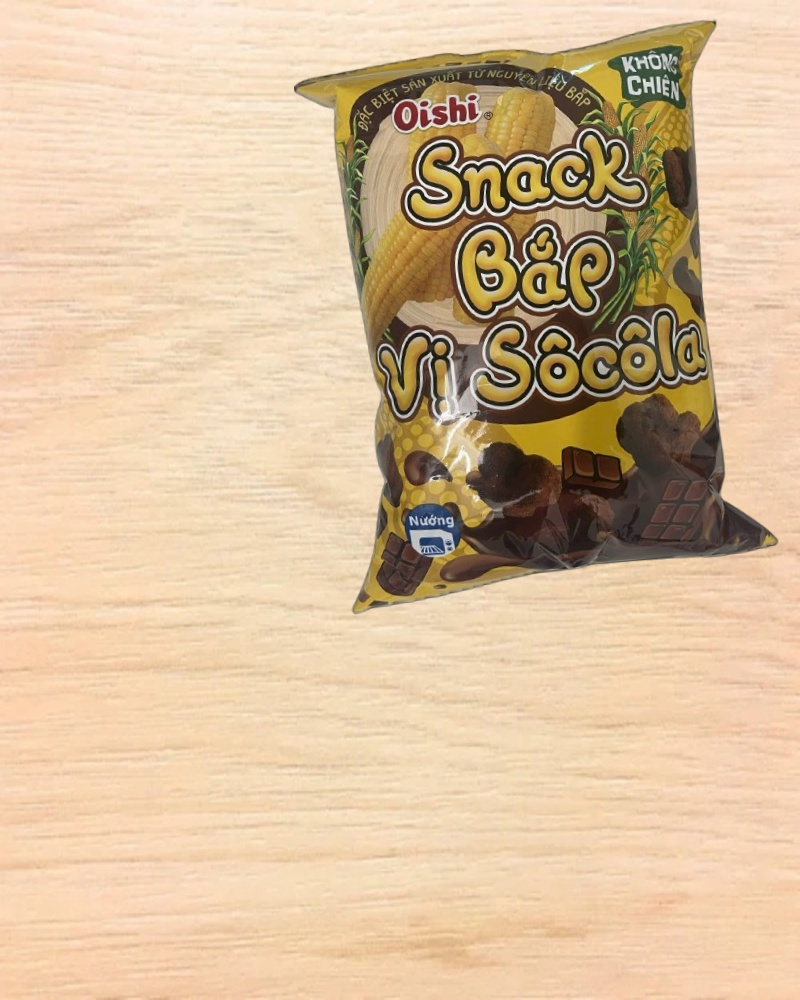Snack socola: (295, 22, 781, 603)
